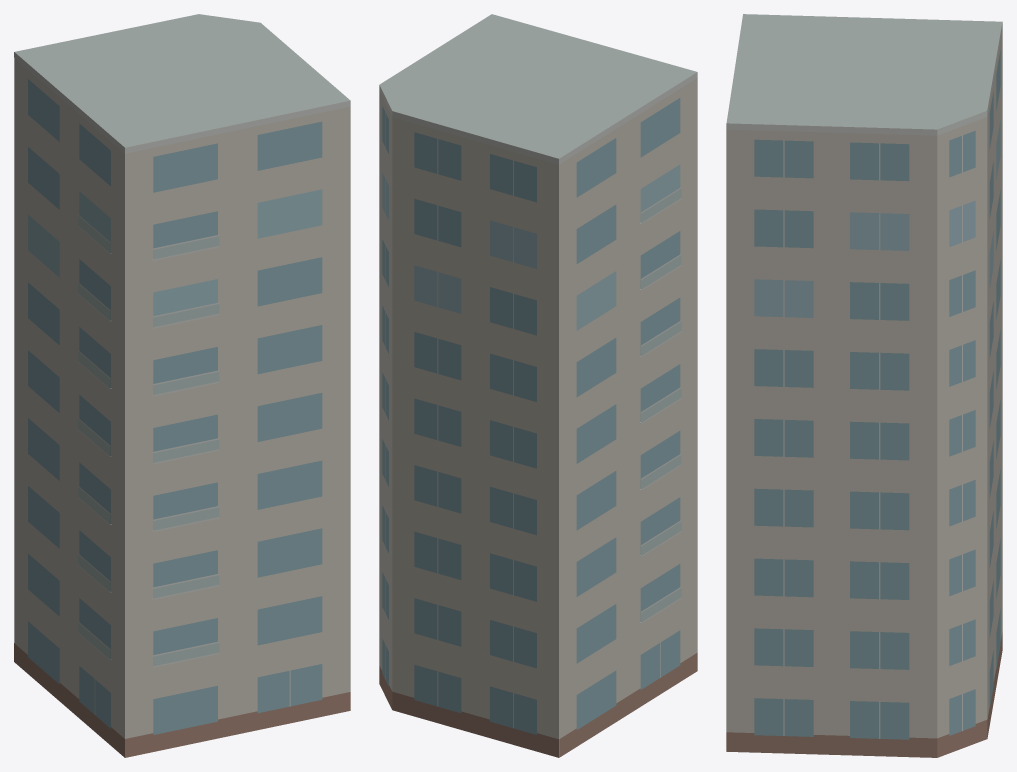
Rendered from survey-upis-32656018.glb.
3 views of the same model, side by side, from view 1: azimuth 30°, elevation 25°; view 2: azimuth 150°, elevation 25°; view 3: azimuth 270°, elevation 25° (orthographic). The views are drawn at different scales.
Visible parts, largest first — view 1: survey-upis-32656018.tmp; view 2: survey-upis-32656018.tmp; view 3: survey-upis-32656018.tmp.
Part boxes in pixels (<box>): survey-upis-32656018.tmp: <box>14,14,350,757</box>; survey-upis-32656018.tmp: <box>379,14,697,757</box>; survey-upis-32656018.tmp: <box>726,14,1002,757</box>.
Size of the model in its own units: 9.83 by 24.9 by 9.92.
